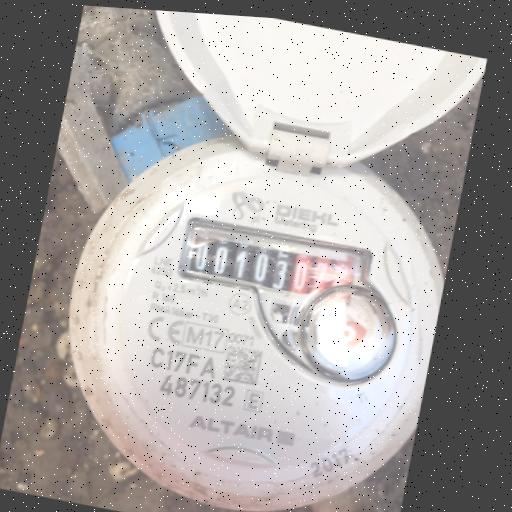0: (205, 237, 235, 280), (286, 251, 314, 296), (248, 245, 275, 287), (186, 235, 213, 274)
1: (227, 242, 255, 283)
2: (326, 251, 356, 293)
3: (267, 250, 295, 292)
7: (306, 255, 334, 298)
border_water_meter_number: (173, 214, 375, 314)
